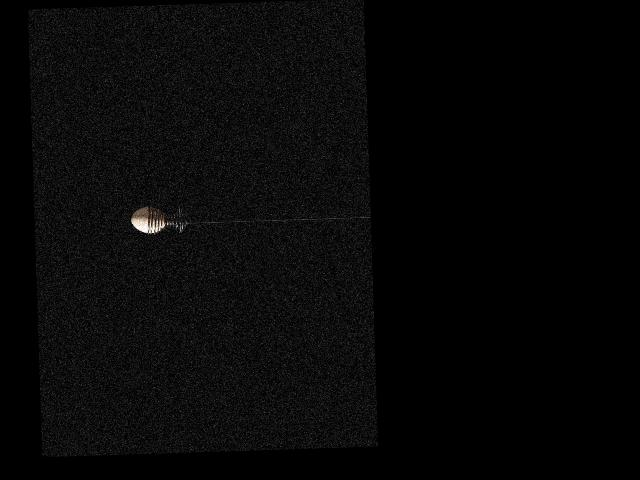egg: (130, 206, 165, 234)
